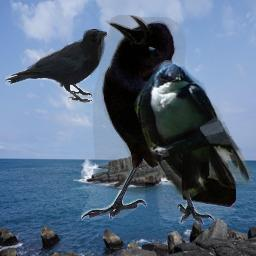Crow: (81, 15, 236, 224), (5, 29, 107, 104)
Swallow: (134, 60, 255, 205)
